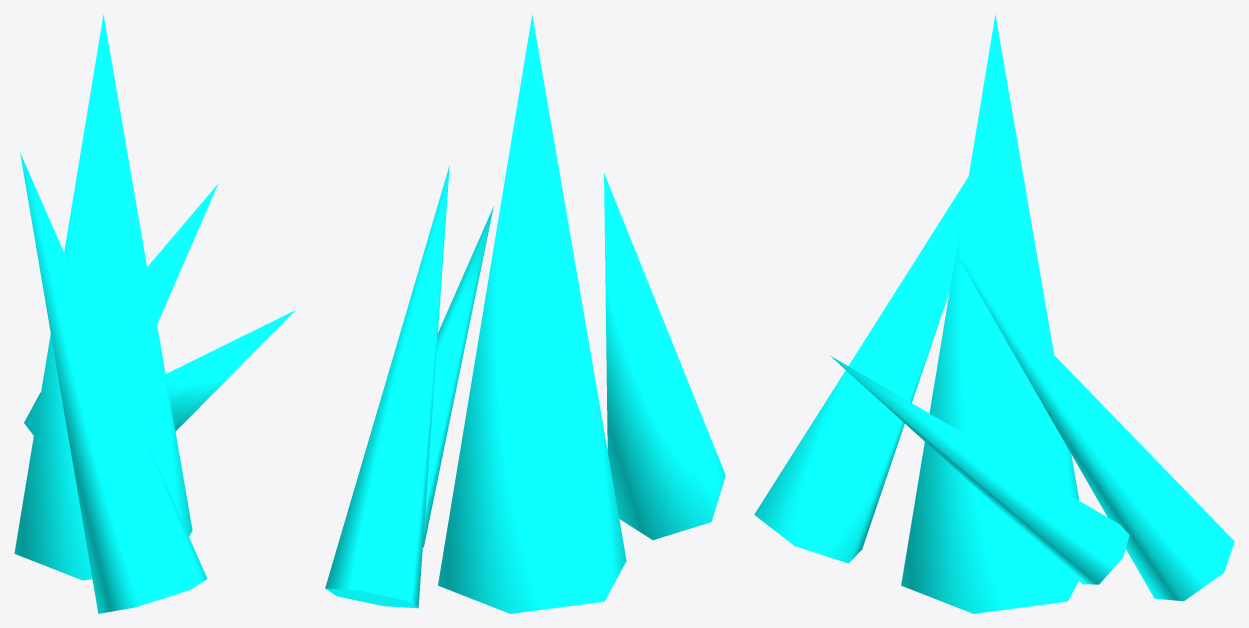
File: cristal.glb
3 renders of one model, left to right at view 1: azimuth 30°, elevation 25°; view 2: azimuth 150°, elevation 25°; view 3: azimuth 270°, elevation 25°, orthographic. The views are drawn at different scales.
Bounding box in the file's own units: 0.9998 × 2.51 × 1.95.
